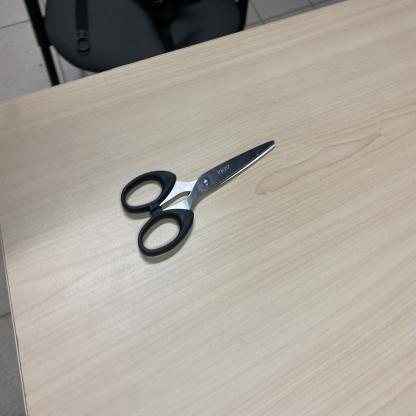scissors: (121, 138, 276, 260)
